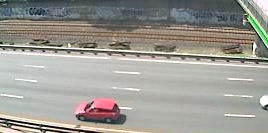car: (72, 97, 125, 125)
